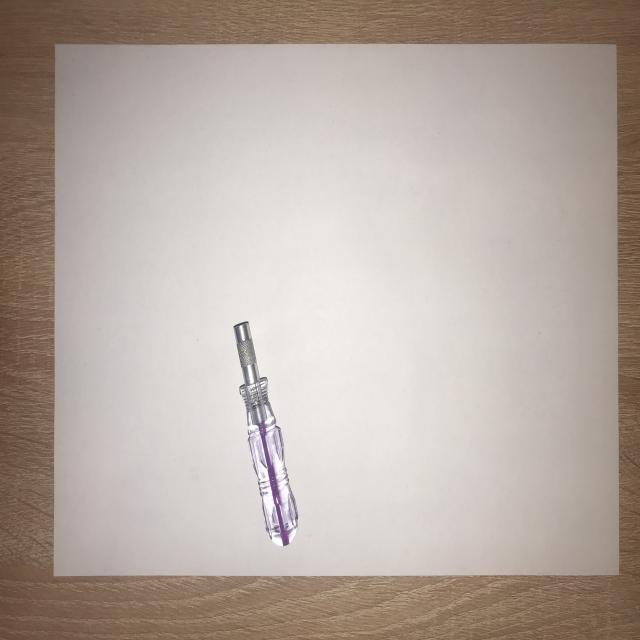screwdriver: (223, 308, 309, 552)
